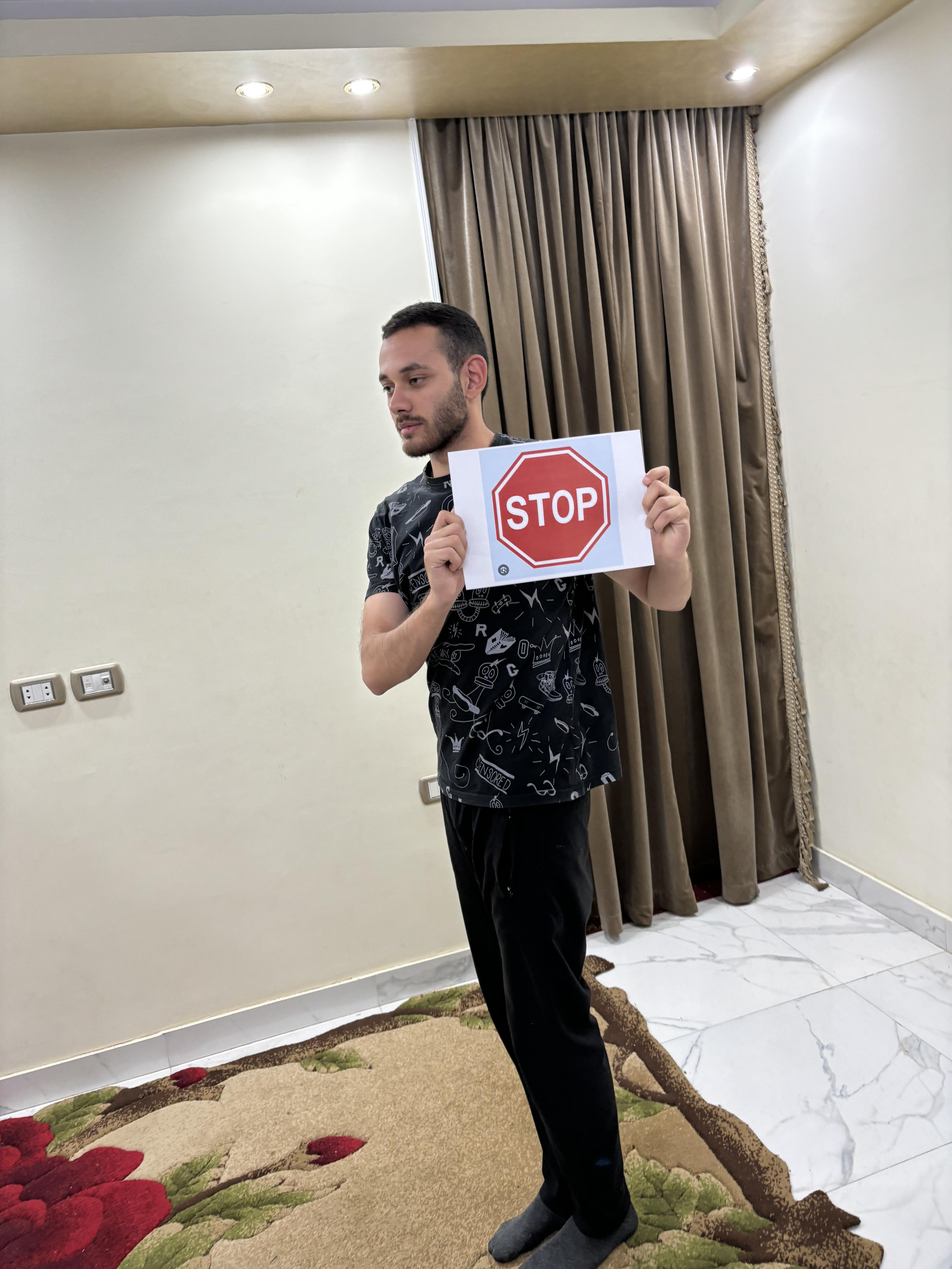Stop: (487, 448, 615, 569)
